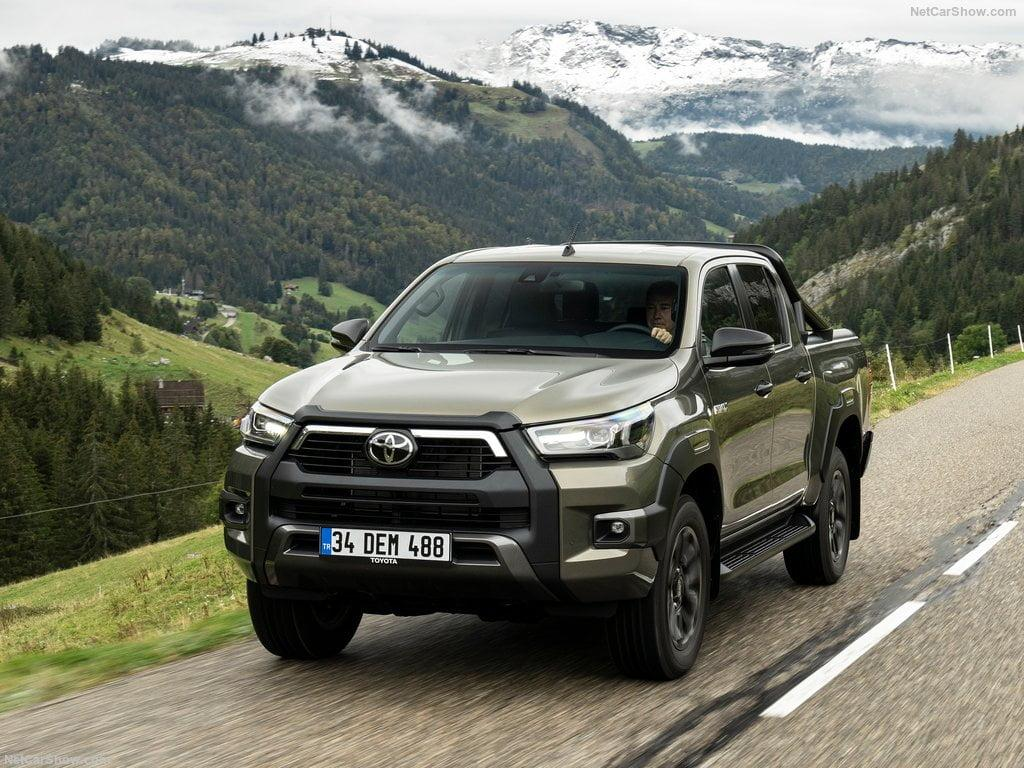windshield: (344, 258, 696, 366)
